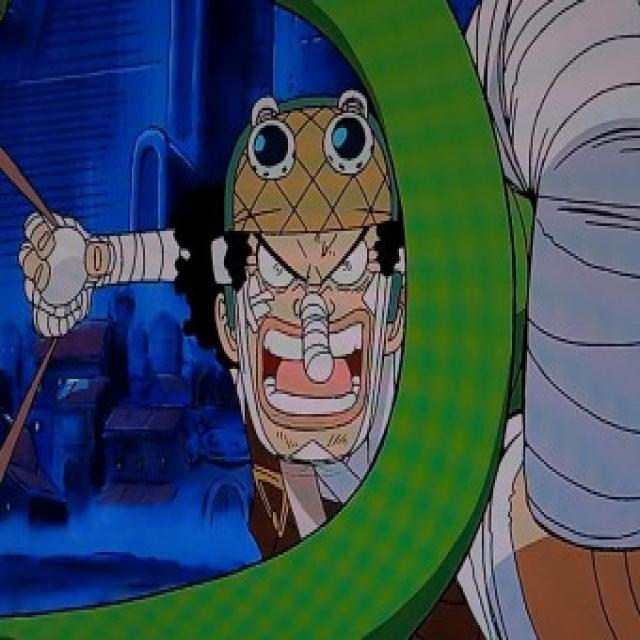Usopp: (192, 78, 424, 470)
